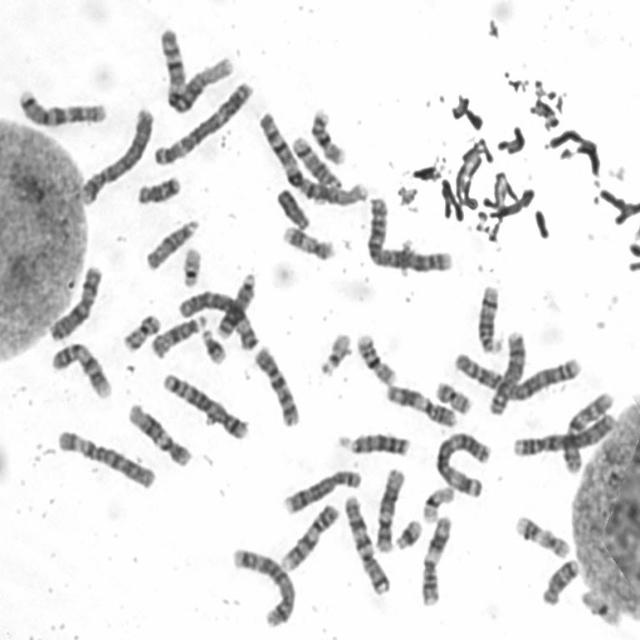A1: (253, 108, 369, 208), (157, 25, 234, 117)
A2: (364, 193, 454, 274), (450, 347, 582, 402)
A3: (150, 77, 254, 167), (432, 427, 492, 499)
B4: (77, 104, 155, 208), (509, 408, 617, 458)
B5: (159, 369, 251, 441), (228, 544, 297, 628)
C10: (561, 390, 616, 475), (251, 343, 302, 429)
C11: (384, 380, 459, 430), (418, 512, 452, 607)
C12: (125, 400, 193, 469), (372, 465, 407, 553)
C6: (53, 425, 158, 491), (176, 287, 259, 352)
C7: (341, 492, 393, 596), (16, 86, 107, 128)
C8: (280, 466, 364, 516), (485, 329, 527, 417)
C9: (278, 500, 340, 572), (48, 338, 114, 400)
D13: (214, 269, 258, 340), (334, 429, 412, 458)
D14: (290, 132, 344, 194), (474, 282, 504, 355)
D15: (144, 216, 202, 270), (148, 310, 208, 360)
E16: (353, 329, 398, 386), (307, 104, 348, 166)
E17: (512, 512, 572, 560), (280, 223, 336, 262)
E18: (539, 556, 582, 608), (134, 172, 182, 206)
F19: (579, 586, 624, 628), (418, 483, 456, 524)
F20: (120, 312, 162, 354), (433, 377, 473, 416)
G21: (199, 324, 228, 366), (392, 516, 423, 550)
G22: (316, 329, 353, 378), (178, 244, 202, 288)
X: (46, 261, 104, 343)
Y: (274, 186, 311, 231)
